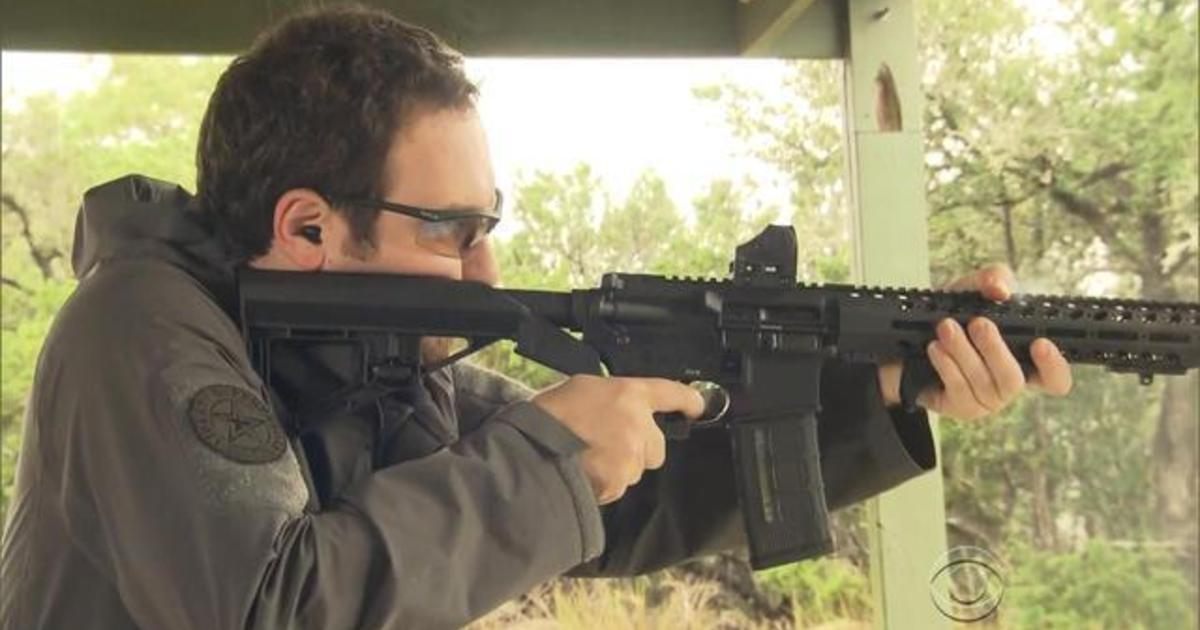Rifle: (233, 222, 1200, 586)
